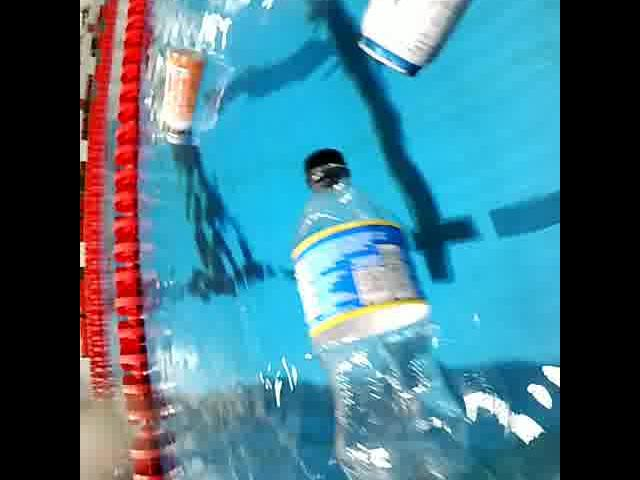Bottle: (289, 147, 485, 480), (158, 49, 206, 150)
Can: (352, 0, 508, 80)
